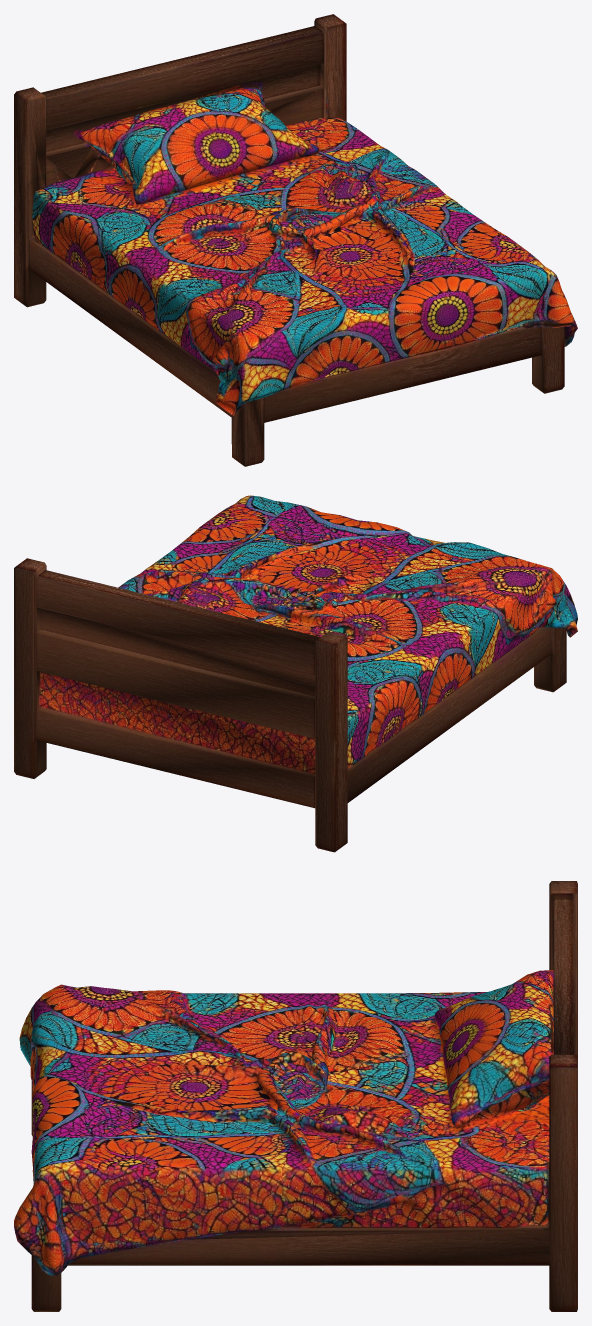
The model's file is bed.glb.
The picture shows the model from 3 angles, top to bottom: view 1: azimuth 30°, elevation 25°; view 2: azimuth 150°, elevation 25°; view 3: azimuth 270°, elevation 25°; orthographic projection. The views are drawn at different scales.
Parts seen in each view (by area): view 1: tripo_node_c3724f6c-496e-46e2-923b-f5f620e11260; view 2: tripo_node_c3724f6c-496e-46e2-923b-f5f620e11260; view 3: tripo_node_c3724f6c-496e-46e2-923b-f5f620e11260.
Boxes of the visible parts, <box> form: tripo_node_c3724f6c-496e-46e2-923b-f5f620e11260: <box>14,14,577,466</box>; tripo_node_c3724f6c-496e-46e2-923b-f5f620e11260: <box>14,495,577,852</box>; tripo_node_c3724f6c-496e-46e2-923b-f5f620e11260: <box>14,881,577,1311</box>.
Size of the model in its own units: 0.8593 by 0.4727 by 0.978.
1 material, 1 textured.
